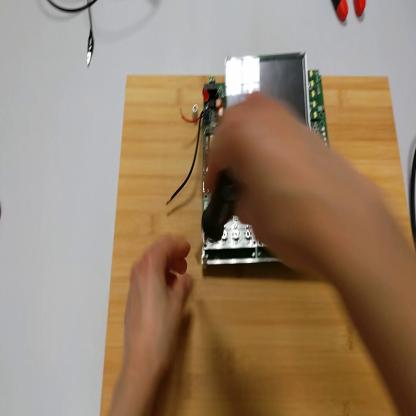hand: (205, 93, 331, 275), (121, 236, 191, 377)
low voltage board: (167, 48, 334, 270)
pliers: (332, 2, 367, 26)
screwdriver-: (201, 172, 238, 269)
working area: (103, 71, 416, 416)
